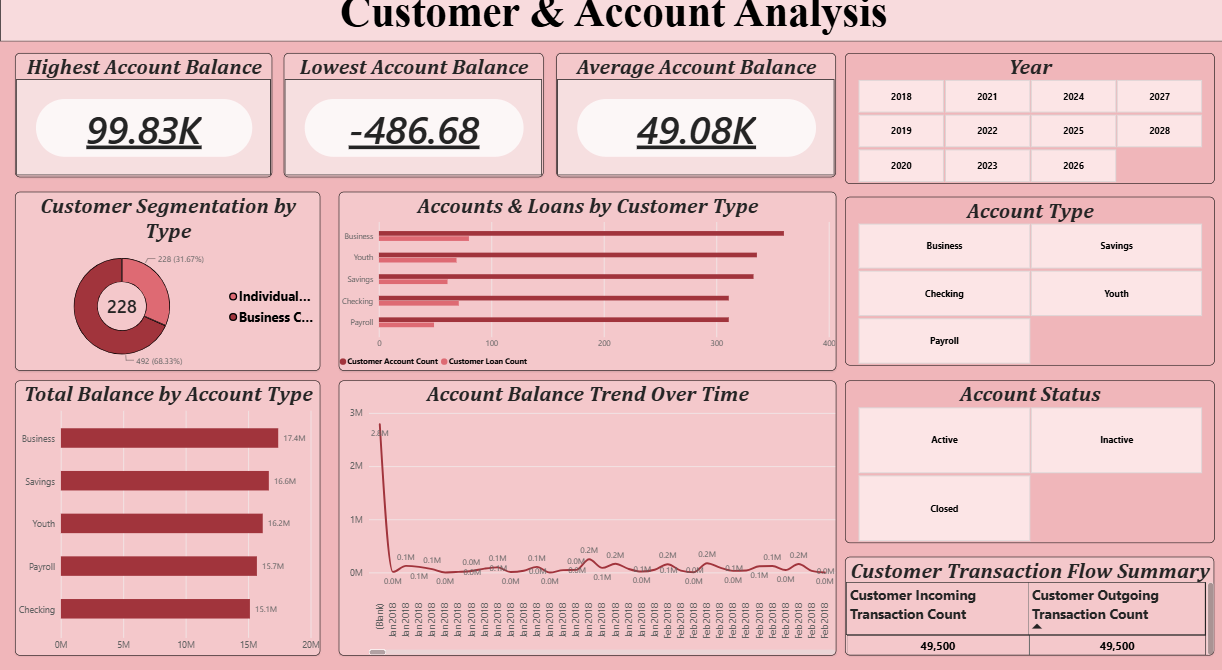

The page's visual inventory and layout, read from the dashboard file:
{"tool":"powerbi","page":{"name":"Accounts","canvas":[1920,1080],"ordinal":1},"visuals":[{"type":"donutChart","title":"Customer Segmentation by Type","fields":{"Y":["_Measures.Individual Customers","_Measures.Business Customers"]},"box":[23.8,325.9,477.8,280.1],"z":0},{"type":"barChart","title":"Total Balance by Account Type","fields":{"Y":["_Measures.Total Balance"],"Category":["account_types.TypeName"]},"box":[23.8,622.4,477.8,430.2],"z":1000},{"type":"clusteredBarChart","title":"Accounts & Loans by Customer Type","fields":{"Category":["account_types.TypeName"],"Y":["_Measures.Customer Account Count","_Measures.Customer Loan Count"]},"box":[529.1,325.9,778,280.1],"z":2000},{"type":"cardVisual","title":"Average Account Balance","fields":{"Data":["_Measures.Average Balance"]},"box":[869.6,109.8,437.5,194.1],"z":3000},{"type":"cardVisual","title":"\tHighest Account Balance","fields":{"Data":["_Measures.Max Account Balance"]},"box":[23.8,109.8,402.7,194.1],"z":4000},{"type":"cardVisual","title":"Lowest Account Balance","fields":{"Data":["_Measures.Min Account Balance"]},"box":[443,109.8,406.4,194.1],"z":5000},{"type":"lineChart","title":"Account Balance Trend Over Time","fields":{"Y":["_Measures.Total Balance"],"Category":["_Date Accounts.MonthYear"]},"box":[529.1,622.4,778,430.2],"z":6000},{"type":"tableEx","title":"Customer Transaction Flow Summary","fields":{"Values":["_Measures.Customer Incoming Transaction Count","_Measures.Customer Outgoing Transaction Count"]},"box":[1321.7,897,577.7,154.8],"z":7000},{"type":"slicer","title":"Year","fields":{"Values":["_Date Accounts.Year"]},"box":[1321.7,109.8,578.5,205],"z":8000},{"type":"slicer","title":"Account Type","fields":{"Values":["account_types.TypeName"]},"box":[1321.7,335,578.5,263.6],"z":9000},{"type":"slicer","title":"Account Status","fields":{"Values":["account_statuses.StatusName"]},"box":[1321.7,622.4,578.5,254.5],"z":10000},{"type":"shape","box":[0,0,1920.4,91.5],"z":10001}]}

Visuals, with their boxes in screenshot pixels (x1, y1, x2, y2), scaled from the page's 1920x1080 canvas onto the 1222x670 screenshot:
"Customer Segmentation by Type" donutChart: (left=15, top=202, right=319, bottom=376)
"Total Balance by Account Type" barChart: (left=15, top=386, right=319, bottom=653)
"Accounts & Loans by Customer Type" clusteredBarChart: (left=337, top=202, right=832, bottom=376)
"Average Account Balance" cardVisual: (left=553, top=68, right=832, bottom=189)
"	Highest Account Balance" cardVisual: (left=15, top=68, right=271, bottom=189)
"Lowest Account Balance" cardVisual: (left=282, top=68, right=541, bottom=189)
"Account Balance Trend Over Time" lineChart: (left=337, top=386, right=832, bottom=653)
"Customer Transaction Flow Summary" tableEx: (left=841, top=556, right=1209, bottom=653)
"Year" slicer: (left=841, top=68, right=1209, bottom=195)
"Account Type" slicer: (left=841, top=208, right=1209, bottom=371)
"Account Status" slicer: (left=841, top=386, right=1209, bottom=544)
shape: (left=0, top=0, right=1221, bottom=57)
